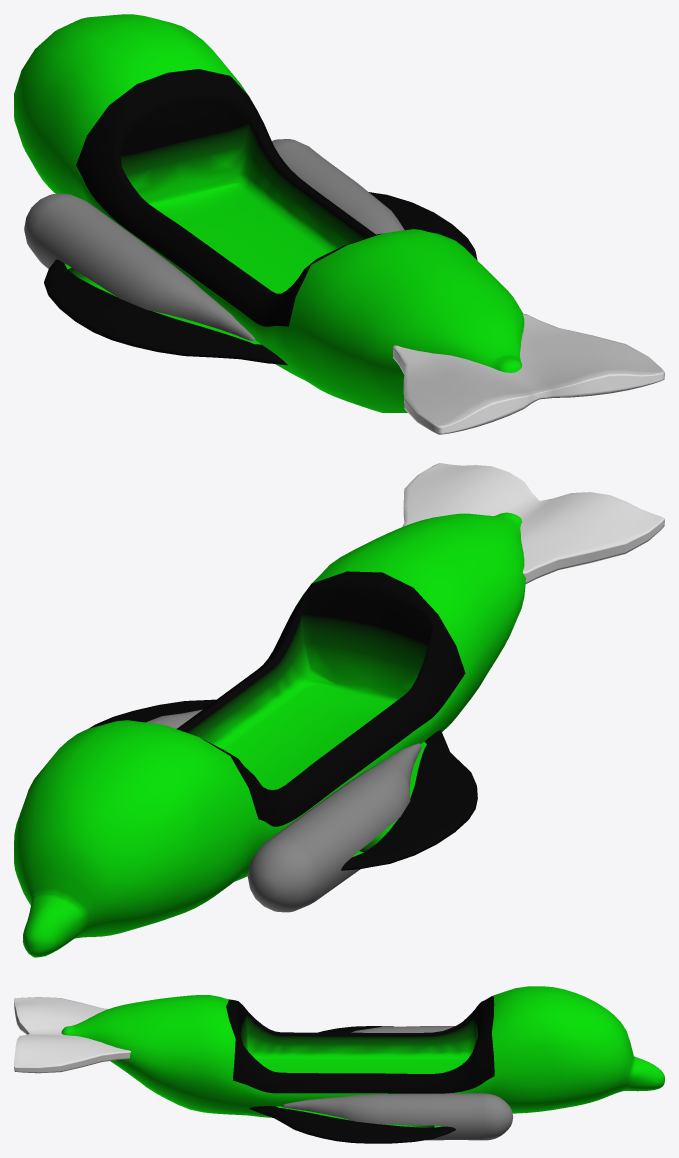
The model's file is DolphinnewUV.fbx.
The picture shows the model from 3 angles, top to bottom: view 1: azimuth 30°, elevation 25°; view 2: azimuth 150°, elevation 25°; view 3: azimuth 270°, elevation 25°; orthographic projection. The views are drawn at different scales.
Parts seen in each view (by area): view 1: pCylinder8, pCube8, pSphere5, pCube10, pSphere4, pCube9; view 2: pCylinder8, pCube8, pSphere5, pCube10, pCube9; view 3: pCylinder8, pSphere4, pCube8, pCube9, pSphere5, pCube10.
Boxes of the visible parts, x1,y1,x2,y2 form: pCylinder8: (14,14,524,412); pCube8: (393,314,664,434); pSphere5: (24,193,255,341); pCube10: (44,259,287,365); pSphere4: (272,139,404,234); pCube9: (369,192,477,260); pCylinder8: (14,512,525,957); pCube8: (402,463,664,583); pSphere5: (248,743,421,912); pCube10: (341,730,477,870); pCube9: (89,699,215,728); pCylinder8: (61,986,664,1117); pSphere4: (282,1093,512,1140); pCube8: (14,997,130,1073); pCube9: (249,1106,455,1143); pSphere5: (351,1026,454,1032); pCube10: (318,1026,393,1032).
Bounding box in the file's own units: 2277 × 1049 × 5414.
